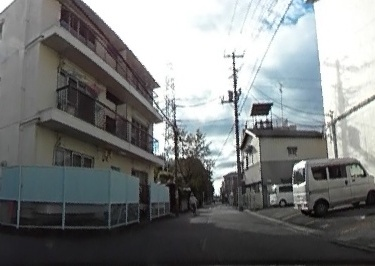person: (187, 189, 198, 212)
